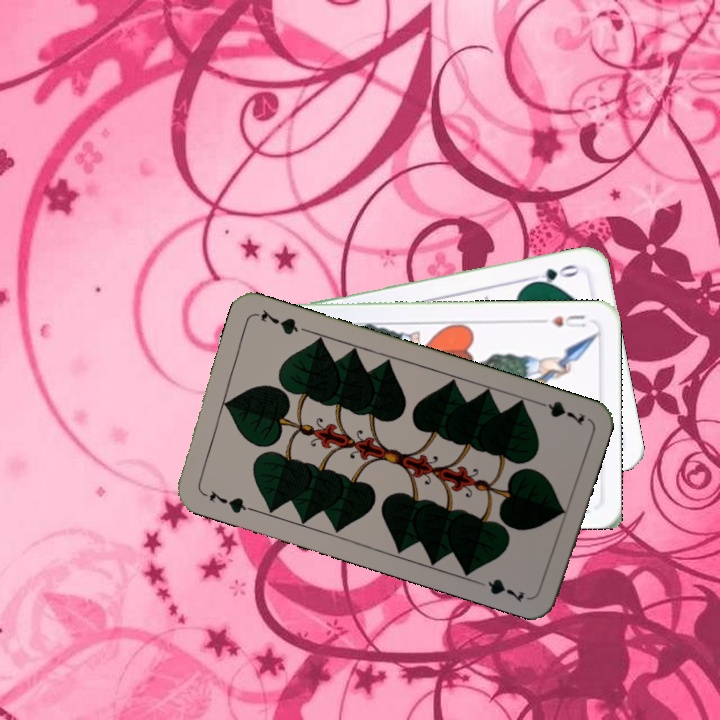G7: (531, 396, 588, 429), (197, 486, 255, 516)
GO: (525, 260, 584, 288)
HU: (546, 310, 589, 330)
